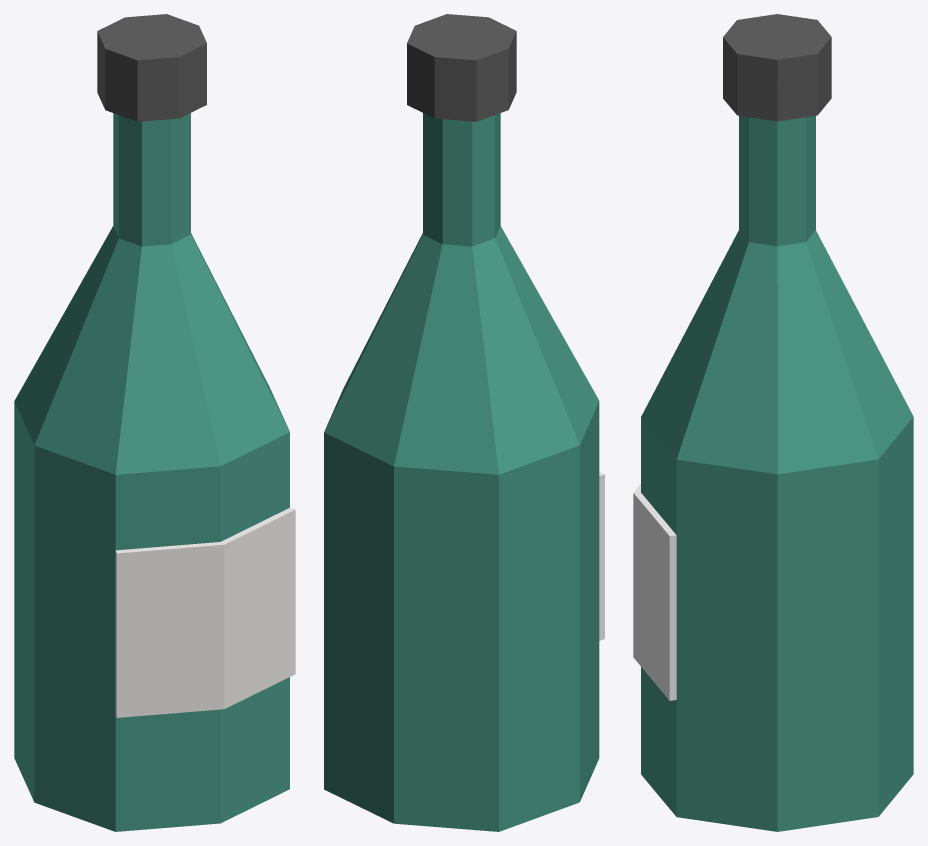
Rendered from Wine_Bottle_1.fbx.
3 renders of one model, left to right at view 1: azimuth 30°, elevation 25°; view 2: azimuth 150°, elevation 25°; view 3: azimuth 270°, elevation 25°, orthographic.
Visible parts, largest first — view 1: Wine_Bottle_1; view 2: Wine_Bottle_1; view 3: Wine_Bottle_1.
Boxes of the visible parts, <box> form: Wine_Bottle_1: <box>14,14,295,831</box>; Wine_Bottle_1: <box>324,14,604,831</box>; Wine_Bottle_1: <box>633,14,913,831</box>.
Size of the model in its own units: 18.68 by 19.21 by 55.73.
